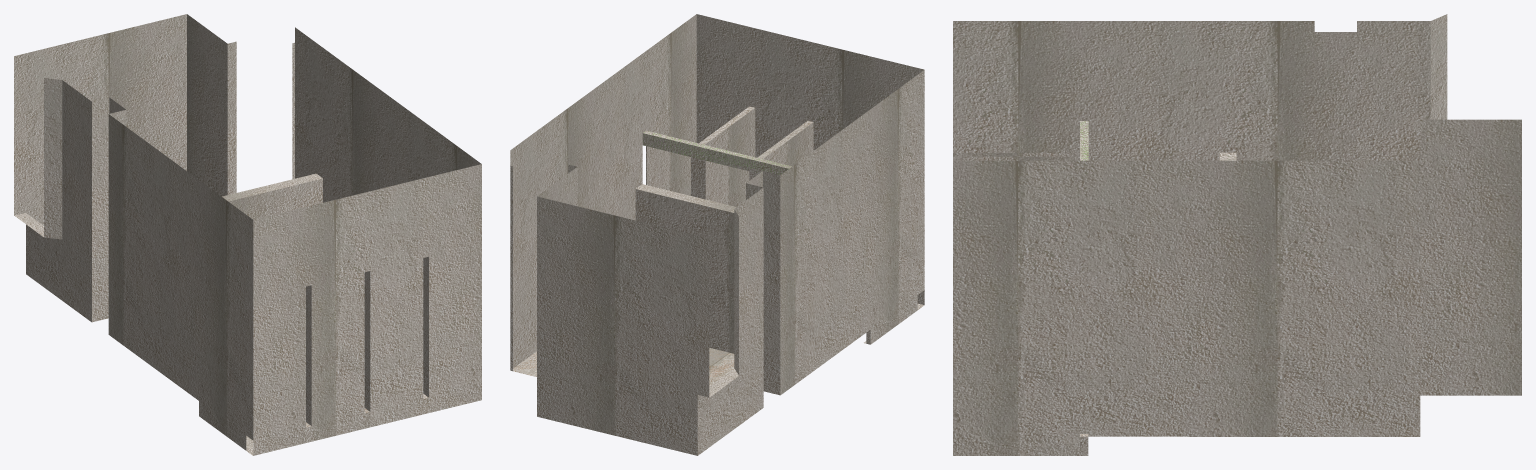
Rendered from COM003.obj.
The picture shows the model from 3 angles, left to right: view 1: azimuth 30°, elevation 25°; view 2: azimuth 150°, elevation 25°; view 3: azimuth 270°, elevation 25°; orthographic projection. The views are drawn at different scales.
Visible parts, largest first — view 1: Mesh29 Group1 Model; view 2: Mesh29 Group1 Model; view 3: Mesh29 Group1 Model.
Part boxes in pixels (x1,y1,x2,y2): Mesh29 Group1 Model: (14,14,481,455); Mesh29 Group1 Model: (510,14,924,455); Mesh29 Group1 Model: (953,14,1521,455).
Bounding box in the file's own units: 4.1 × 3.85 × 6.72.
Materials: 4 (3 with a texture image).
